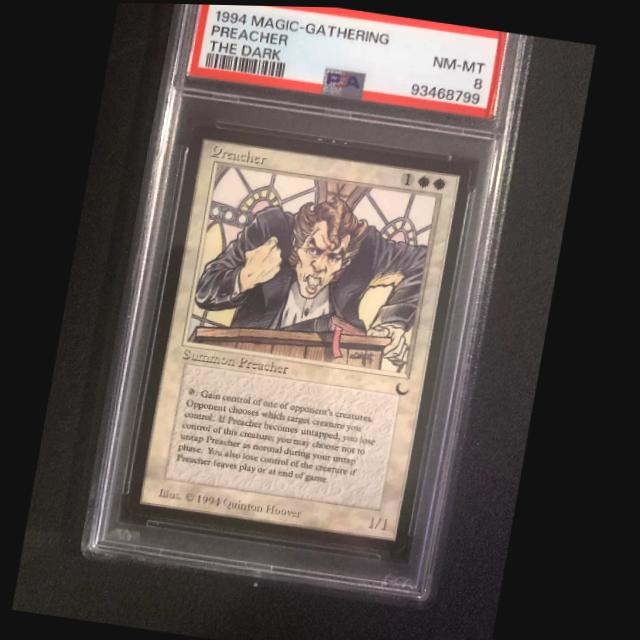card: (131, 121, 474, 552)
psa_label: (186, 3, 506, 116)
psa_slab: (84, 3, 535, 609)
